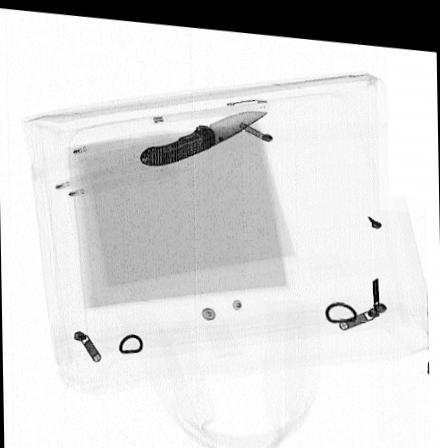Knife: (137, 103, 269, 163)
